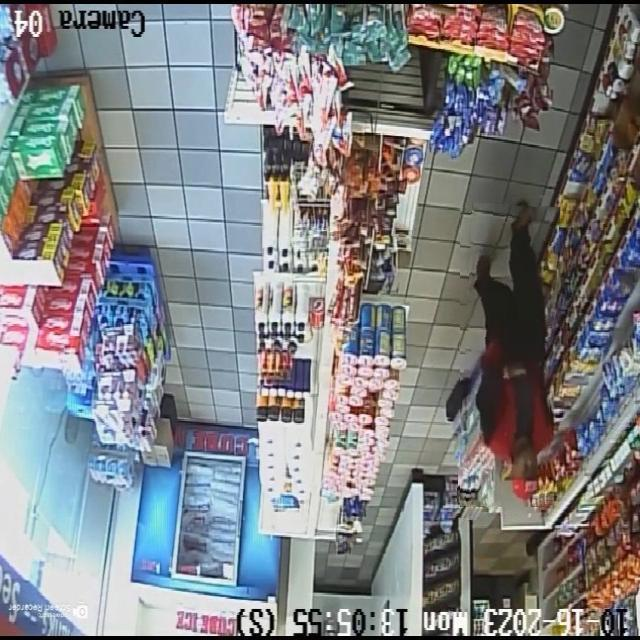Normal: (460, 204, 556, 507)
